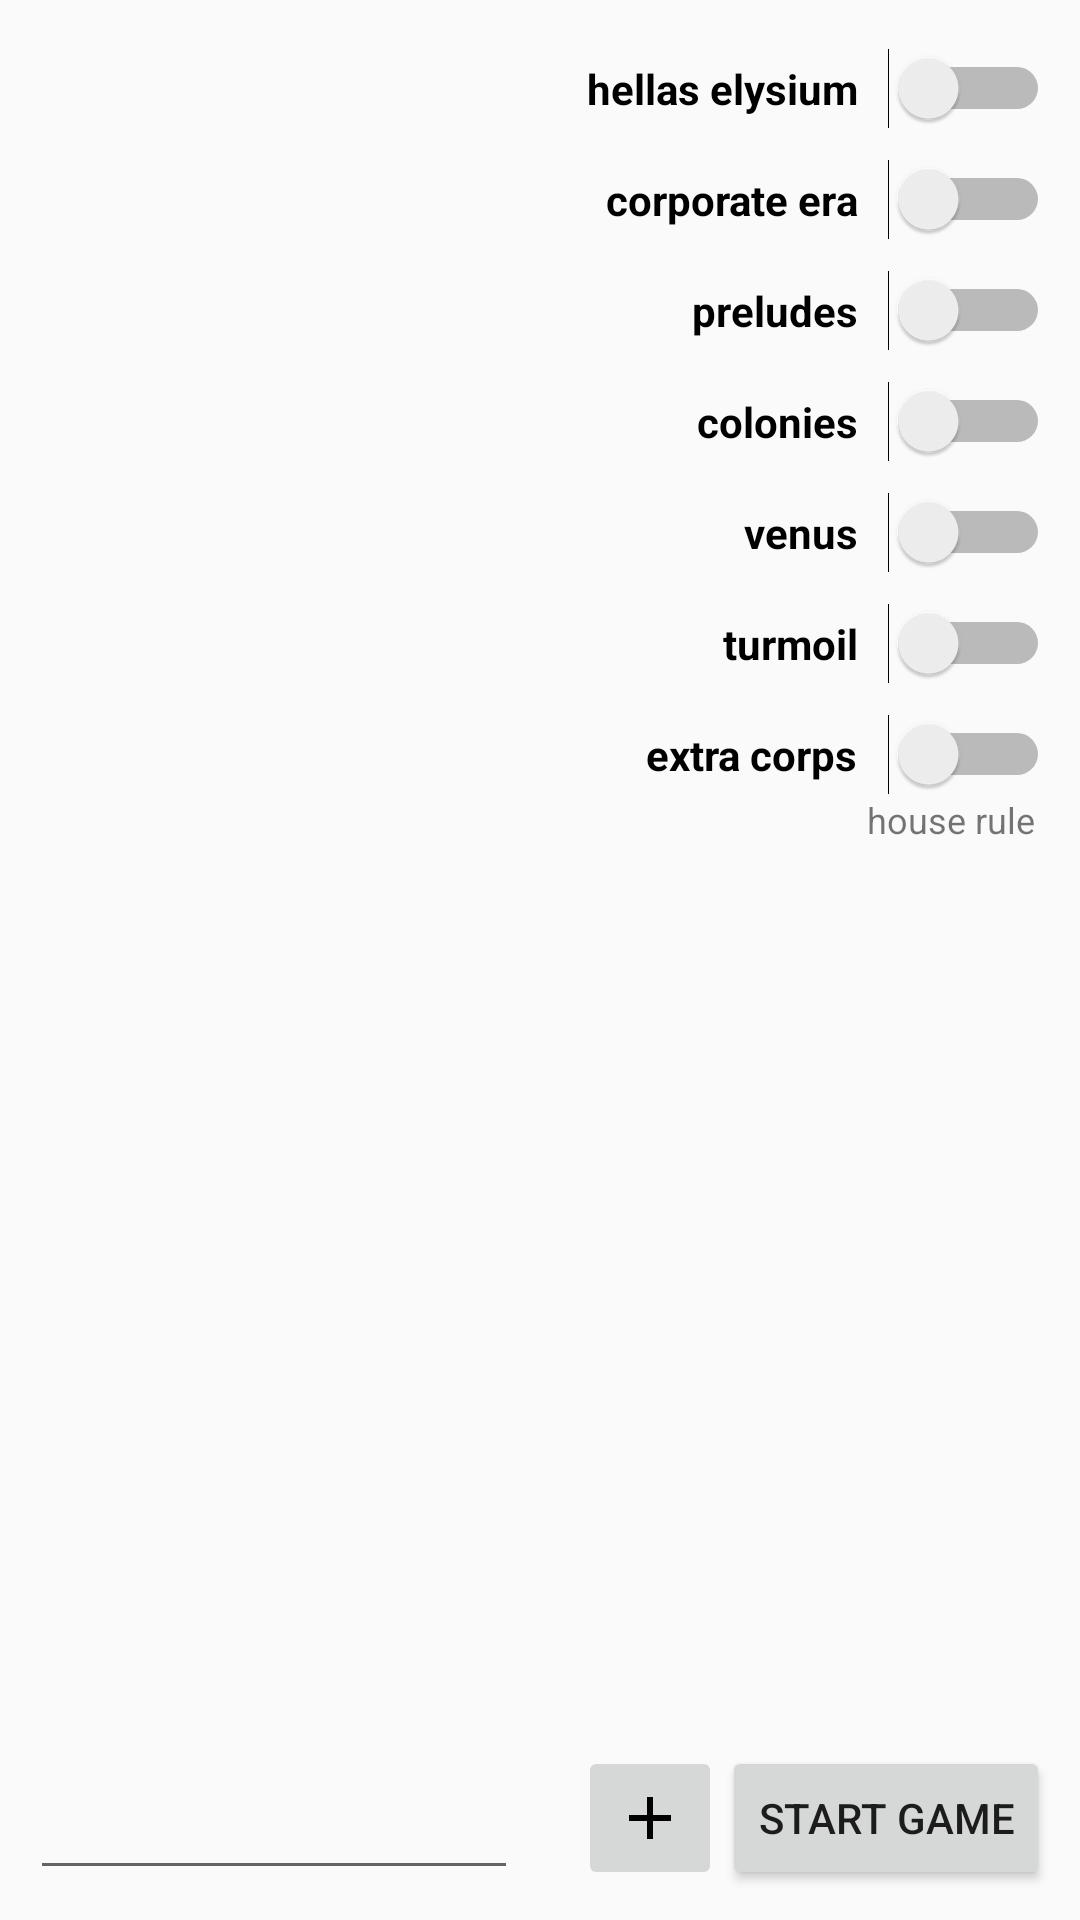

Named icons in this screenshot (1080×1920) and their bounding boxes, [left=x1, top=y1, right=x2, bottom=y2]:
add custom: [left=590, top=1764, right=710, bottom=1872]
